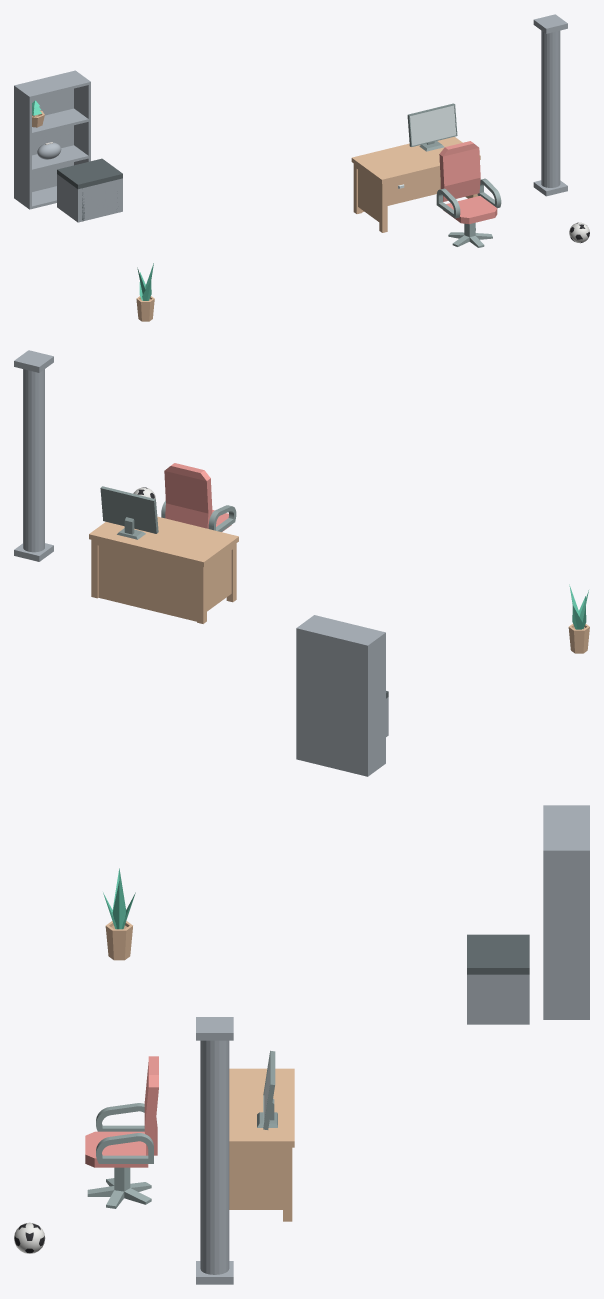
3 views of the same model, one above another, from view 1: azimuth 30°, elevation 25°; view 2: azimuth 150°, elevation 25°; view 3: azimuth 270°, elevation 25° (orthographic). The views are drawn at different scales.
Visible parts, largest first — view 1: desk_blue__desk(Clone), deskchair_black__chair, column_cyan__column_cyan shaft, crate_red__crate_red shell, shelf_orange__shelf_orange back, shelf_orange__shelf_orange side_l, monitor_gray__computerScreen(Clone), crate_red__crate_red lid, shelf_orange__shelf_orange side_r, shelf_orange__shelf_orange board3, shelf_orange__shelf_orange board2, shelf_orange__shelf_orange board1 (+3 smaller); view 2: desk_blue__desk(Clone), shelf_orange__shelf_orange back, column_cyan__column_cyan shaft, deskchair_black__chair, shelf_orange__shelf_orange side_l, monitor_gray__computerScreen(Clone), shelf_orange__shelf_orange board3, column_cyan__column_cyan capital; view 3: desk_blue__desk(Clone), shelf_orange__shelf_orange side_r, column_cyan__column_cyan shaft, deskchair_black__chair, crate_red__crate_red shell, crate_red__crate_red lid, shelf_orange__shelf_orange board3, deskchair_black__chairDesk(Clone), monitor_gray__computerScreen(Clone), column_cyan__column_cyan capital, plant_pink__pottedPlant(Clone), soccer_white__soccer_white (+1 smaller).
Boxes of the visible parts, x1,y1,x2,y2 form: desk_blue__desk(Clone): (351,136,480,232); deskchair_black__chair: (436,141,501,224); column_cyan__column_cyan shaft: (541,30,560,187); crate_red__crate_red shell: (57,174,122,222); shelf_orange__shelf_orange back: (17,71,73,191); shelf_orange__shelf_orange side_l: (14,85,31,209); monitor_gray__computerScreen(Clone): (407,103,457,151); crate_red__crate_red lid: (57,158,122,189); shelf_orange__shelf_orange side_r: (73,70,90,165); shelf_orange__shelf_orange board3: (17,72,88,98); shelf_orange__shelf_orange board2: (32,108,88,135); shelf_orange__shelf_orange board1: (32,145,88,172); desk_blue__desk(Clone): (89,516,238,623); shelf_orange__shelf_orange back: (299,628,365,775); column_cyan__column_cyan shaft: (23,369,44,552); deskchair_black__chair: (161,463,236,531); shelf_orange__shelf_orange side_l: (365,631,385,776); monitor_gray__computerScreen(Clone): (100,486,158,539); shelf_orange__shelf_orange board3: (301,615,382,643); column_cyan__column_cyan capital: (14,350,53,372); desk_blue__desk(Clone): (229,1068,294,1221); shelf_orange__shelf_orange side_r: (543,848,589,1019); column_cyan__column_cyan shaft: (200,1040,229,1274); deskchair_black__chair: (85,1056,158,1167); crate_red__crate_red shell: (467,974,529,1024); crate_red__crate_red lid: (467,934,529,974); shelf_orange__shelf_orange board3: (543,807,586,848); deskchair_black__chairDesk(Clone): (87,1167,151,1208); monitor_gray__computerScreen(Clone): (257,1050,277,1129); column_cyan__column_cyan capital: (196,1017,233,1040); plant_pink__pottedPlant(Clone): (105,921,132,960); soccer_white__soccer_white: (14,1222,45,1253).
Size of the model in its own units: 5.56 by 1.95 by 4.04.
